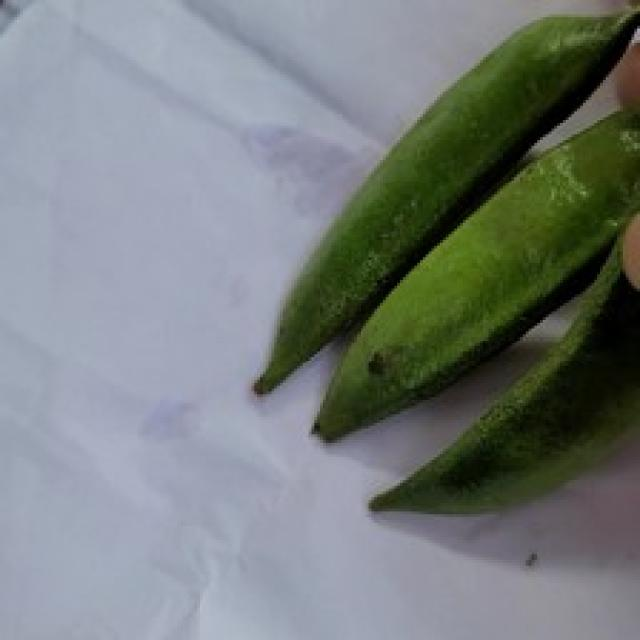Bean: (252, 0, 637, 397)
